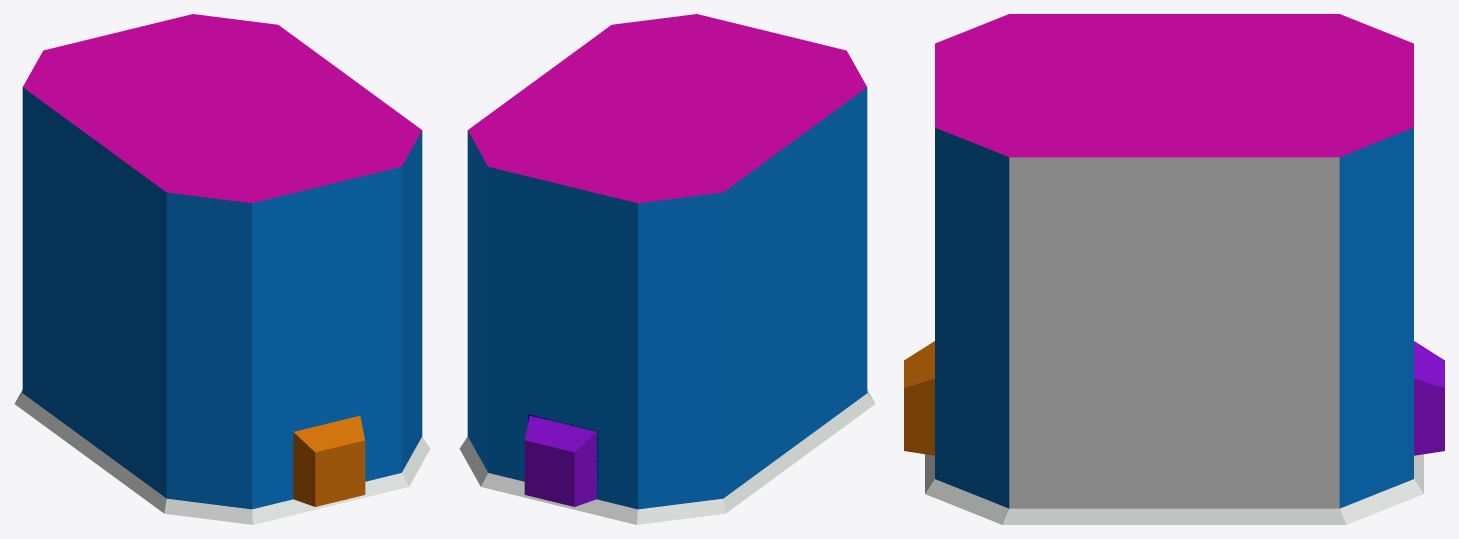
The model's file is Stadium hexagonale.fbx.
3 renders of one model, left to right at view 1: azimuth 30°, elevation 25°; view 2: azimuth 150°, elevation 25°; view 3: azimuth 270°, elevation 25°, orthographic. The views are drawn at different scales.
Parts seen in each view (by area): view 1: stade 2, socle, red goal; view 2: stade 2, socle, blue goal; view 3: stade 2, socle, blue goal, red goal.
Part boxes in pixels (x1,y1,x2,y2): stade 2: (22,14,422,509); socle: (14,390,430,524); red goal: (293,415,365,506); stade 2: (467,14,867,509); socle: (459,390,875,524); blue goal: (524,415,596,506); stade 2: (935,14,1413,508); socle: (925,454,1423,524); blue goal: (1414,341,1444,455); red goal: (904,341,934,455).
Bounding box in the file's own units: 10.78 × 12.3 × 16.52.
